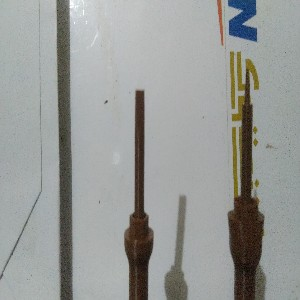obeng: (123, 88, 155, 300)
solder: (227, 66, 266, 300)
